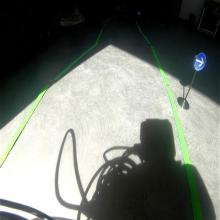right: (193, 51, 206, 70)
